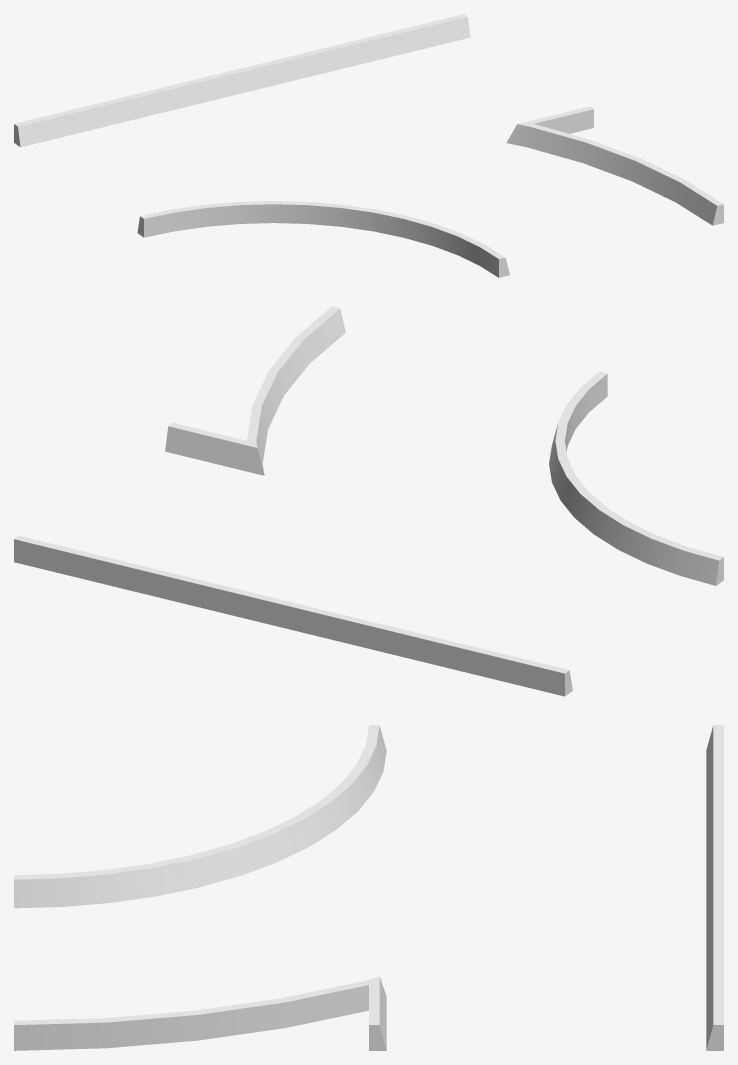
The model's file is road-curve-intersection-barrier.draco.glb.
The picture shows the model from 3 angles, top to bottom: view 1: azimuth 30°, elevation 25°; view 2: azimuth 150°, elevation 25°; view 3: azimuth 270°, elevation 25°; orthographic projection. The views are drawn at different scales.
Parts seen in each view (by area): view 1: road-curve-intersection-barrier; view 2: road-curve-intersection-barrier; view 3: road-curve-intersection-barrier.
Part boxes in pixels (x1,y1,x2,y2): road-curve-intersection-barrier: (14,14,723,277); road-curve-intersection-barrier: (14,306,723,696); road-curve-intersection-barrier: (14,725,723,1050).
Bounding box in the file's own units: 2 × 0.08 × 2.
1 material, 1 textured.
